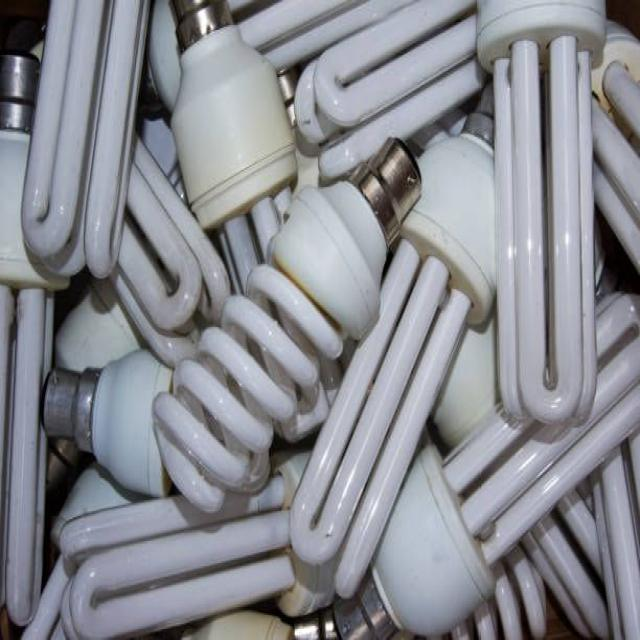electronic: (2, 0, 639, 638), (147, 0, 297, 230), (270, 135, 421, 341), (369, 440, 496, 637)
